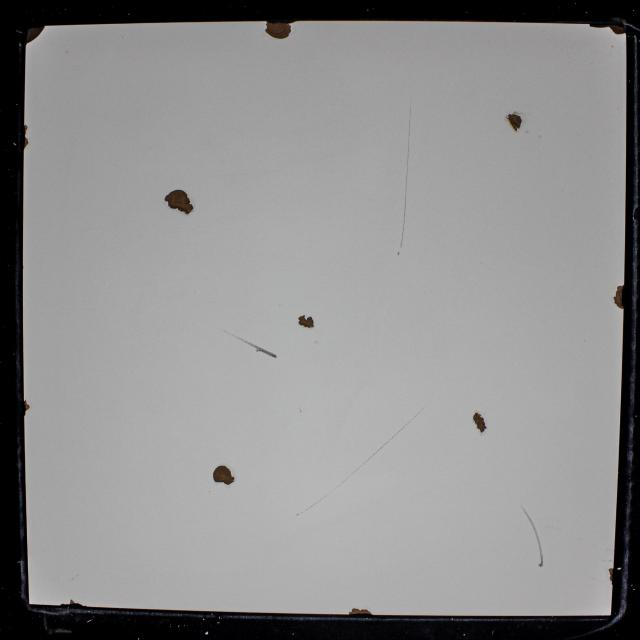edge-chipping: (265, 21, 297, 39), (25, 26, 45, 46), (590, 23, 626, 34), (613, 284, 624, 310), (349, 608, 373, 615), (70, 599, 87, 607), (24, 125, 29, 151), (24, 399, 30, 417), (608, 568, 613, 586), (59, 603, 69, 606)
hole: (165, 189, 195, 215), (213, 464, 236, 484), (507, 113, 524, 132), (473, 412, 487, 433), (298, 314, 314, 328)
line: (295, 461, 368, 515), (368, 406, 428, 459), (398, 96, 414, 248), (523, 508, 544, 568), (234, 336, 278, 360)
